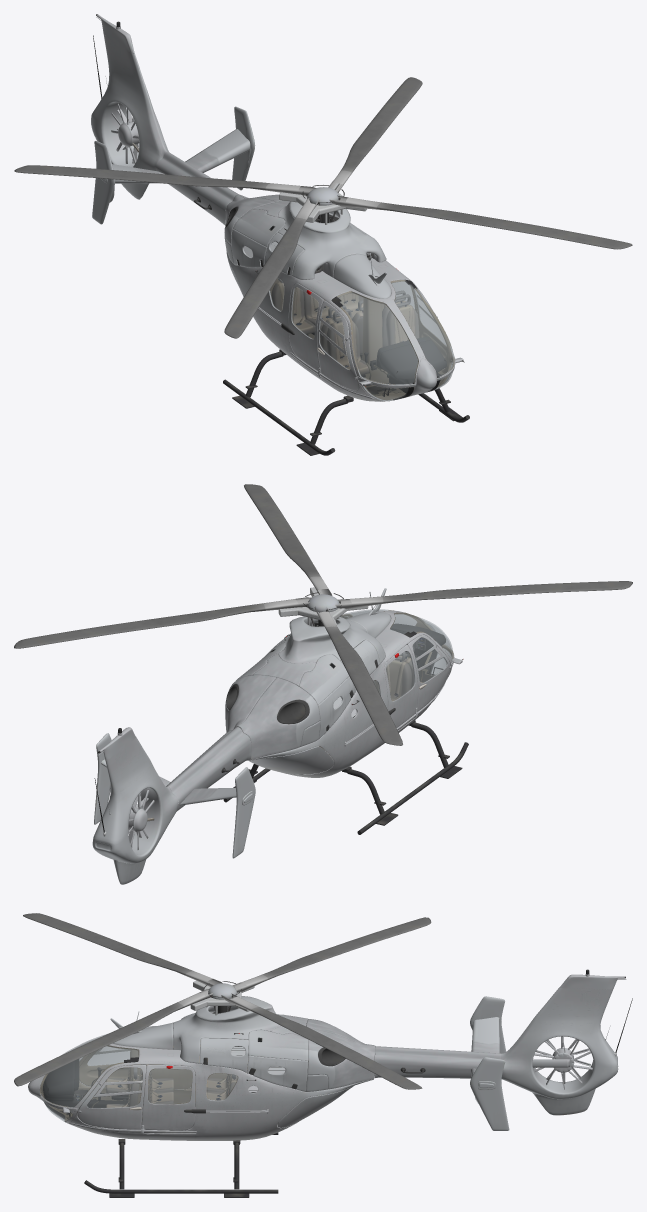
File: helico_ec135_realiste.web.glb
3 renders of one model, top to bottom at view 1: azimuth 30°, elevation 25°; view 2: azimuth 150°, elevation 25°; view 3: azimuth 270°, elevation 25°, orthographic. The views are drawn at different scales.
Parts seen in each view (by area): view 1: cellule, rotor_principal, vitrages, door_FR, door_RR, door_FR_glass, door_RR_glass, rotor_anticouple; view 2: cellule, rotor_principal, vitrages, door_FR, door_RR, door_RR_glass, door_FR_glass, rotor_anticouple; view 3: cellule, rotor_principal, vitrages, door_FL, door_RL, door_RL._glass, door_FL_glass, door_FR, door_RR, door_FR_glass, rotor_anticouple.
Part boxes in pixels (<box>): cellule: <box>91,14,469,455</box>; rotor_principal: <box>14,77,632,338</box>; vitrages: <box>96,14,454,401</box>; door_FR: <box>317,300,359,390</box>; door_RR: <box>281,283,323,378</box>; door_FR_glass: <box>319,306,350,369</box>; door_RR_glass: <box>291,287,318,338</box>; rotor_anticouple: <box>111,103,139,164</box>; cellule: <box>92,588,468,884</box>; rotor_principal: <box>14,484,632,745</box>; vitrages: <box>98,609,453,753</box>; door_FR: <box>407,635,452,711</box>; door_RR: <box>384,645,418,727</box>; door_RR_glass: <box>386,651,415,700</box>; door_FR_glass: <box>412,637,447,682</box>; rotor_anticouple: <box>128,789,154,849</box>; cellule: <box>28,974,632,1197</box>; rotor_principal: <box>14,913,431,1089</box>; vitrages: <box>40,969,625,1121</box>; door_FL: <box>76,1065,146,1129</box>; door_RL: <box>141,1065,205,1134</box>; door_RL._glass: <box>148,1068,192,1104</box>; door_FL_glass: <box>87,1068,142,1108</box>; door_FR: <box>79,1049,129,1087</box>; door_RR: <box>151,1064,192,1089</box>; door_FR_glass: <box>87,1046,129,1065</box>; rotor_anticouple: <box>536,1036,590,1083</box>.
Size of the model in its own units: 8.55 by 4.4 by 12.68.
5 materials, 4 textured.
